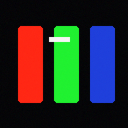3 line_h: (49, 37, 69, 41)
